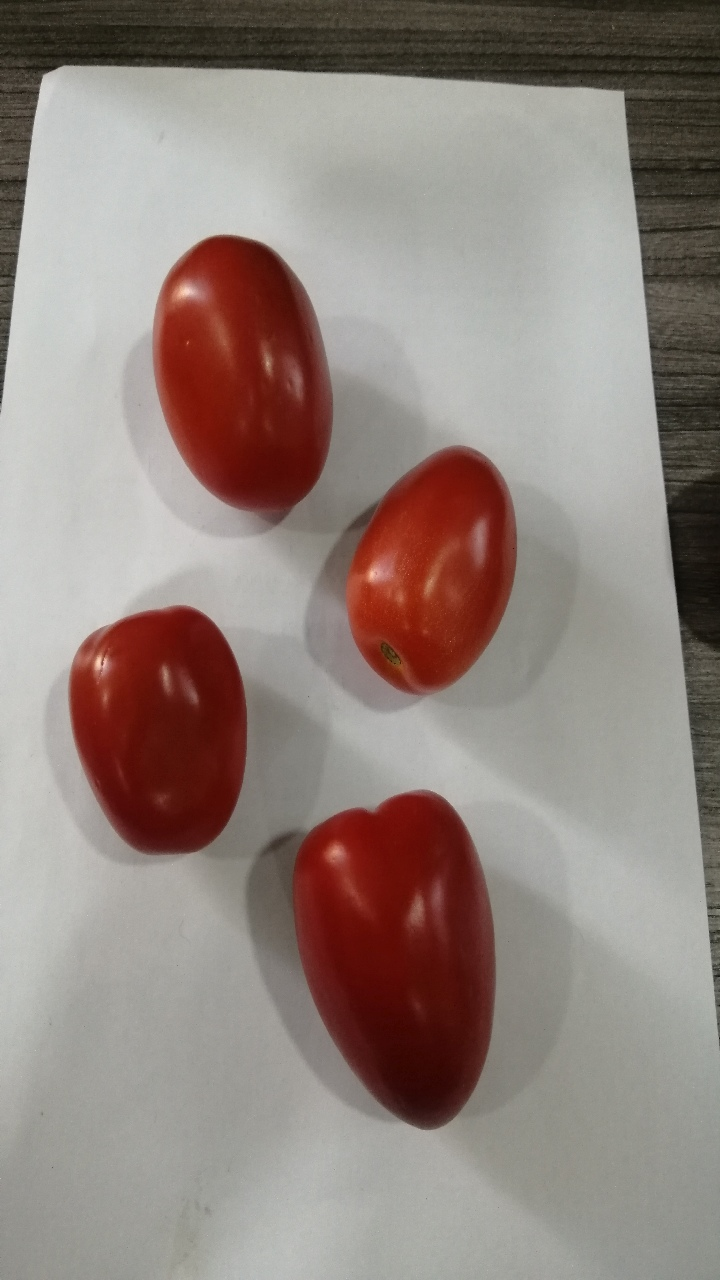tomateRojo: (264, 766, 515, 1151), (128, 212, 346, 531), (48, 597, 269, 888), (341, 428, 537, 723)
